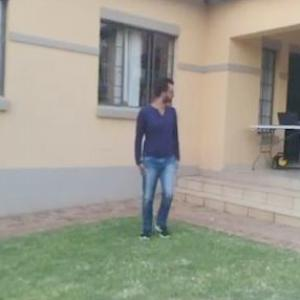follow: (133, 68, 188, 251)
